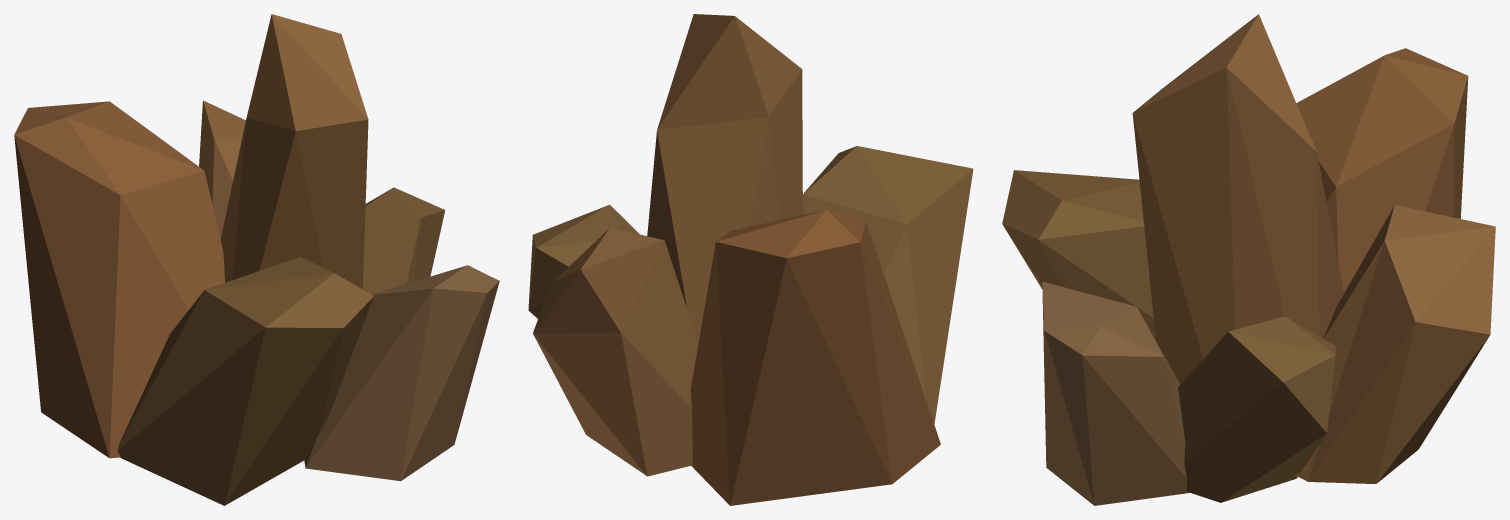
The model's file is EruptionPrefab.fbx.
3 views of the same model, side by side, from view 1: azimuth 30°, elevation 25°; view 2: azimuth 150°, elevation 25°; view 3: azimuth 270°, elevation 25° (orthographic). The views are drawn at different scales.
Visible parts, largest first — view 1: Rock 5, Rock 4, Rock 1, Rock 6, Rock 3, Rock 2; view 2: Rock 5, Rock 1, Rock 2, Rock 4, Rock 3; view 3: Rock 1, Rock 2, Rock 6, Rock 5, Rock 3, Rock 4.
Boxes of the visible parts, x1,y1,x2,y2 form: Rock 5: (14,101,225,458); Rock 4: (117,256,373,505); Rock 1: (220,14,368,288); Rock 6: (304,265,499,481); Rock 3: (362,187,445,294); Rock 2: (199,100,245,238); Rock 5: (690,210,940,505); Rock 1: (647,14,802,342); Rock 2: (533,227,698,476); Rock 4: (803,146,973,423); Rock 3: (528,204,639,318); Rock 1: (1132,14,1343,476); Rock 2: (1296,205,1495,483); Rock 6: (1042,281,1189,505); Rock 5: (1296,48,1468,292); Rock 3: (1178,316,1335,502); Rock 4: (1002,170,1155,339).
Bounding box in the file's own units: 365 × 383 × 382.
